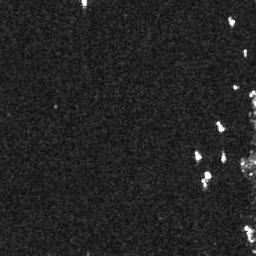ship: (216, 119, 225, 132), (227, 16, 236, 27), (194, 150, 202, 161), (220, 152, 228, 163), (204, 171, 212, 181), (242, 48, 249, 58)
